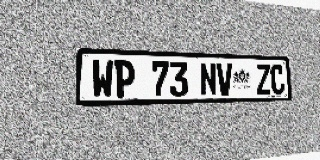3: (170, 62, 188, 97)
7: (150, 61, 169, 97)
C: (270, 64, 285, 95)
N: (200, 62, 217, 96)
P: (114, 60, 135, 98)
V: (216, 63, 233, 96)
W: (91, 59, 113, 98)
Z: (256, 64, 271, 95)
